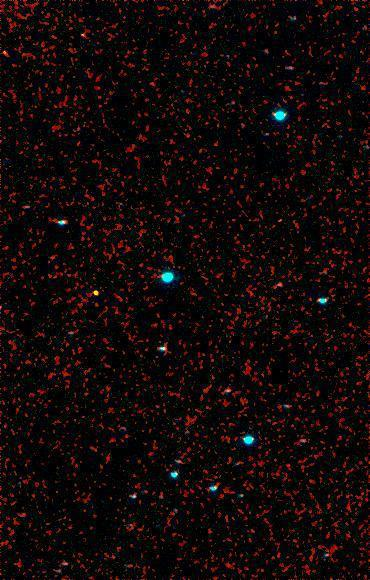star: (78, 278, 108, 308)
